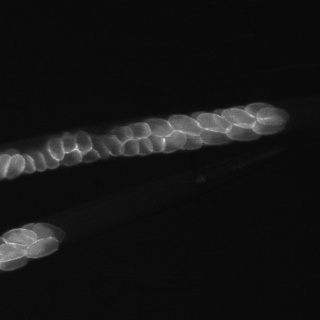embryo: (221, 107, 255, 129), (214, 109, 242, 135), (154, 121, 184, 145), (26, 236, 58, 258), (196, 113, 231, 133), (20, 223, 55, 243), (2, 228, 37, 247), (255, 105, 287, 125), (168, 115, 200, 135), (226, 122, 260, 140), (169, 130, 201, 149), (254, 116, 286, 134), (34, 223, 65, 241), (124, 122, 151, 140), (164, 130, 186, 152), (200, 129, 230, 145), (91, 134, 111, 158), (147, 118, 172, 137), (46, 137, 65, 162), (5, 154, 24, 178), (103, 133, 123, 155), (143, 134, 165, 153), (41, 146, 59, 169), (29, 149, 47, 171), (110, 125, 133, 142), (75, 131, 92, 154), (61, 149, 81, 165), (62, 132, 77, 153), (23, 154, 37, 173), (246, 102, 269, 112), (139, 138, 152, 155), (124, 140, 138, 155), (83, 149, 99, 162)
